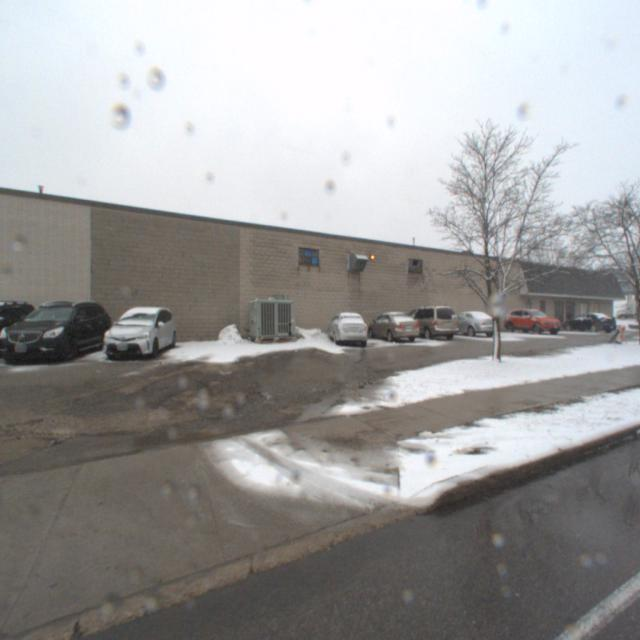Car: (93, 298, 179, 358), (394, 304, 462, 342), (365, 310, 423, 345), (437, 310, 501, 341), (496, 310, 562, 340), (326, 308, 370, 350), (555, 316, 615, 338)
